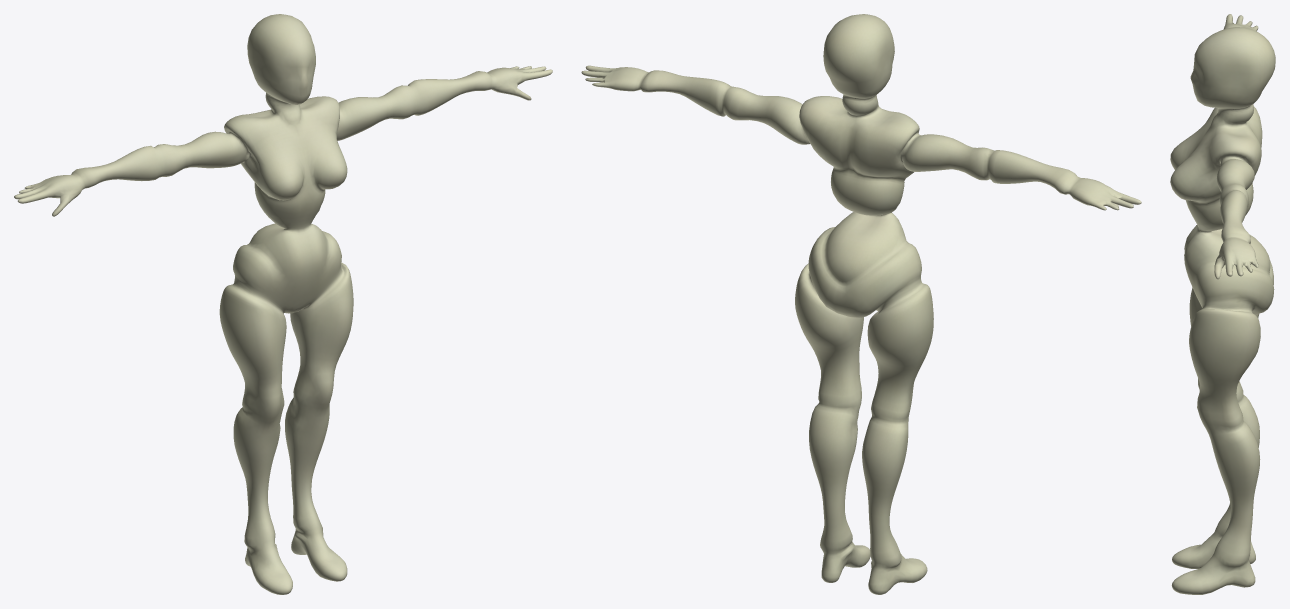
Rendered from vera_raw3.glb.
The picture shows the model from 3 angles, left to right: view 1: azimuth 30°, elevation 25°; view 2: azimuth 150°, elevation 25°; view 3: azimuth 270°, elevation 25°; orthographic projection. The views are drawn at different scales.
Parts seen in each view (by area): view 1: model; view 2: model; view 3: model.
Boxes of the visible parts, x1,y1,x2,y2 form: model: [14, 14, 552, 594]; model: [581, 14, 1141, 594]; model: [1170, 14, 1275, 594].
Bounding box in the file's own units: 1.9 × 1.86 × 0.325.
Materials: 1 (1 with a texture image).
